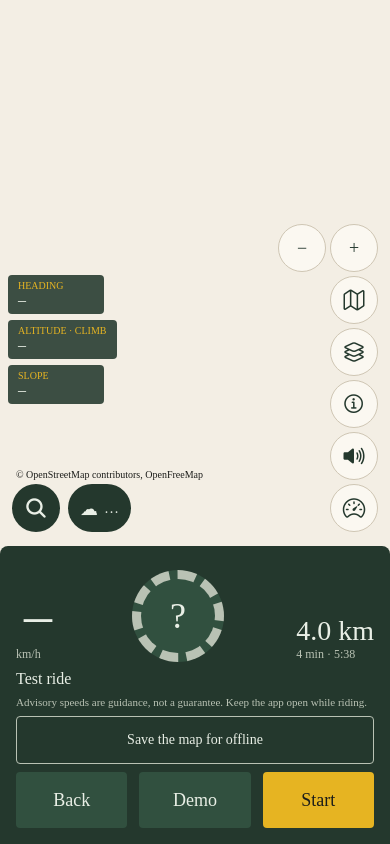
while riding with GPS the next route point can be skipped, not the café
Click the button "Start". click: (318, 800)
box: [263,772,374,828]
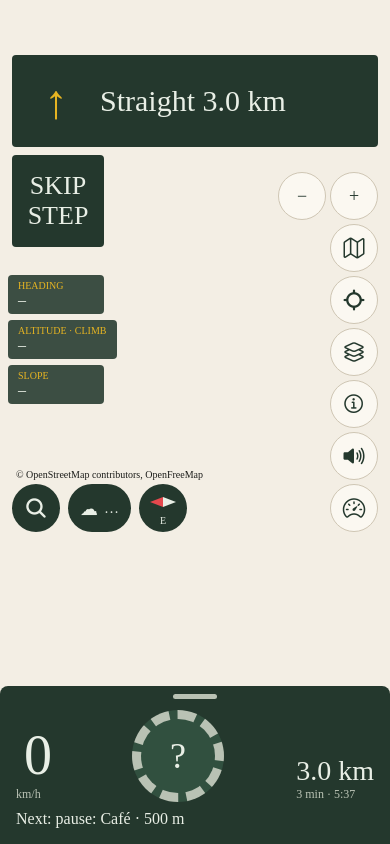
Now the button with aria-label "Skip 2. Cassel" is shown, box [12,155,104,247]
